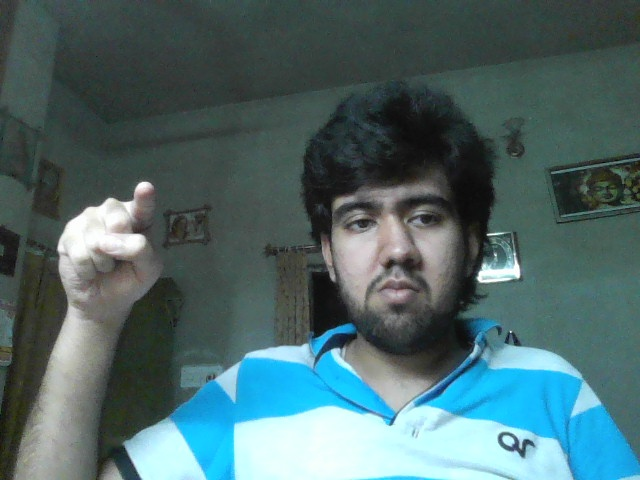You: (58, 182, 166, 304)
